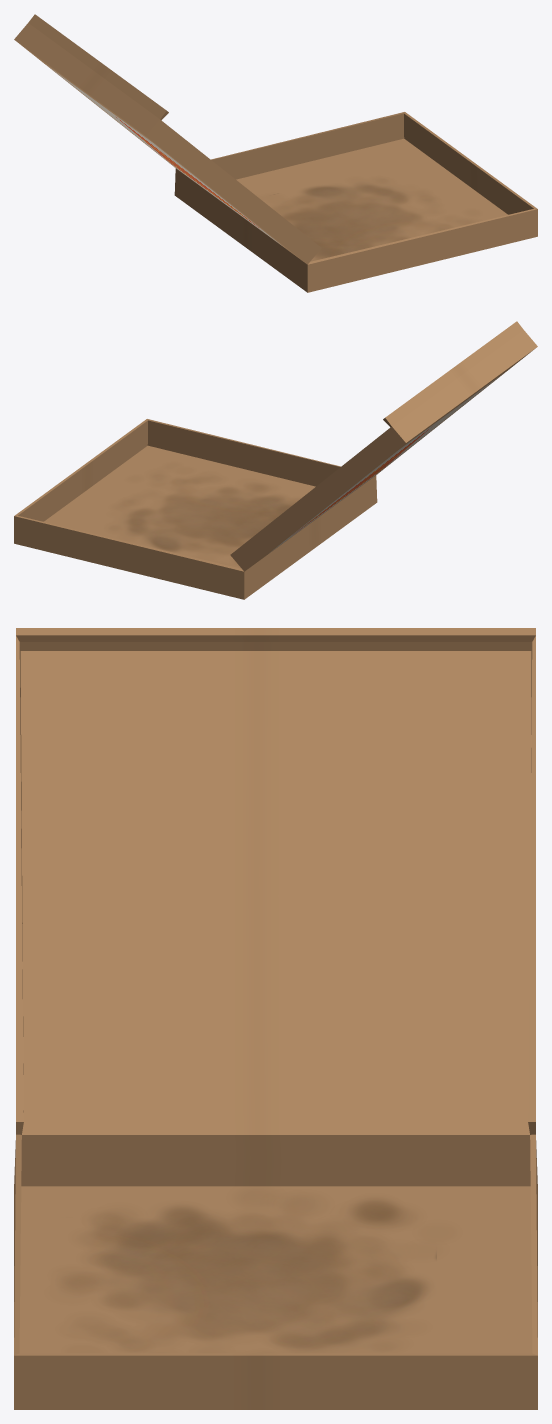
File: PizzaBoxLEss.fbx
3 views of the same model, one above another, from view 1: azimuth 30°, elevation 25°; view 2: azimuth 150°, elevation 25°; view 3: azimuth 270°, elevation 25° (orthographic). The views are drawn at different scales.
Parts seen in each view (by area): view 1: Plane.001, Plane.003; view 2: Plane.001, Plane.003; view 3: Plane.001.
Boxes of the visible parts, box(x1,y1,x2,y2) form: Plane.001: box(14, 14, 537, 292); Plane.003: box(48, 66, 281, 245); Plane.001: box(14, 321, 537, 599); Plane.003: box(270, 374, 501, 552); Plane.001: box(14, 628, 537, 1409).
Bounding box in the file's own units: 557 × 294 × 328.
2 materials, 2 textured.
